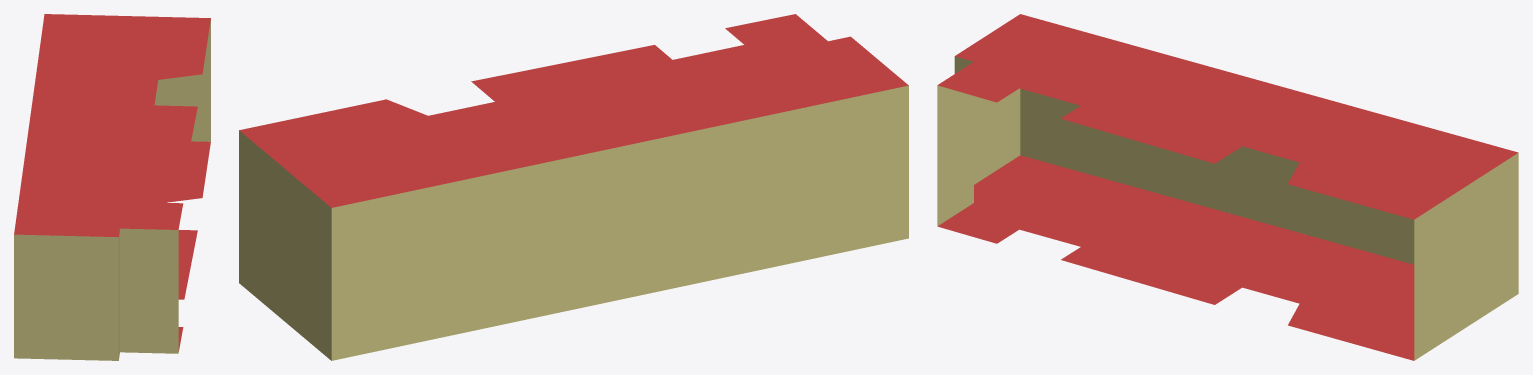
3 renders of one model, left to right at view 1: azimuth 30°, elevation 25°; view 2: azimuth 150°, elevation 25°; view 3: azimuth 270°, elevation 25°, orthographic. The views are drawn at different scales.
Visible parts, largest first — view 1: group_3, group_4, group_5; view 2: group_4, group_3; view 3: group_3, group_4, group_5.
Part boxes in pixels (bbox=[...]): group_3: bbox=[14, 14, 210, 237]; group_4: bbox=[14, 19, 210, 360]; group_5: bbox=[148, 141, 210, 351]; group_4: bbox=[239, 85, 908, 360]; group_3: bbox=[239, 14, 908, 207]; group_3: bbox=[937, 14, 1518, 219]; group_4: bbox=[937, 56, 1518, 360]; group_5: bbox=[937, 155, 1414, 360].
Size of the model in its own units: 38.52 by 46.01 by 12.33.
